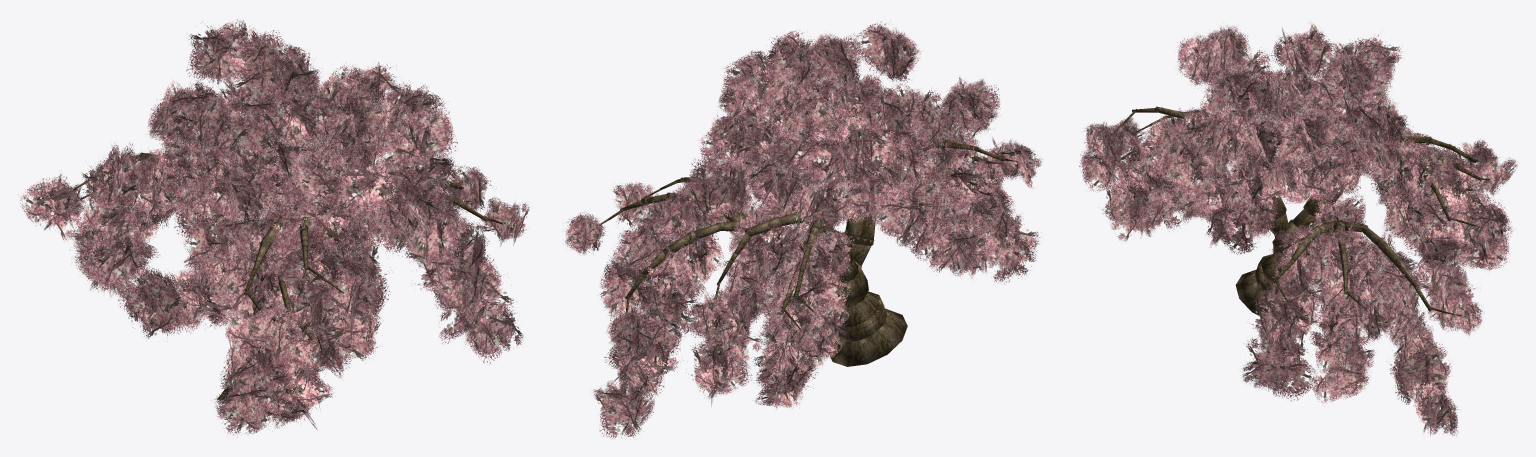
File: blossom_10.glb
3 renders of one model, left to right at view 1: azimuth 30°, elevation 25°; view 2: azimuth 150°, elevation 25°; view 3: azimuth 270°, elevation 25°, orthographic. The views are drawn at different scales.
Visible parts, largest first — view 1: blossom; view 2: blossom; view 3: blossom.
Part boxes in pixels (x1,y1,x2,y2): blossom: [18, 19, 529, 435]; blossom: [563, 20, 1042, 439]; blossom: [1079, 21, 1517, 435].
Bounding box in the file's own units: 24.4 × 22.23 × 25.61.
2 materials, 2 textured.
